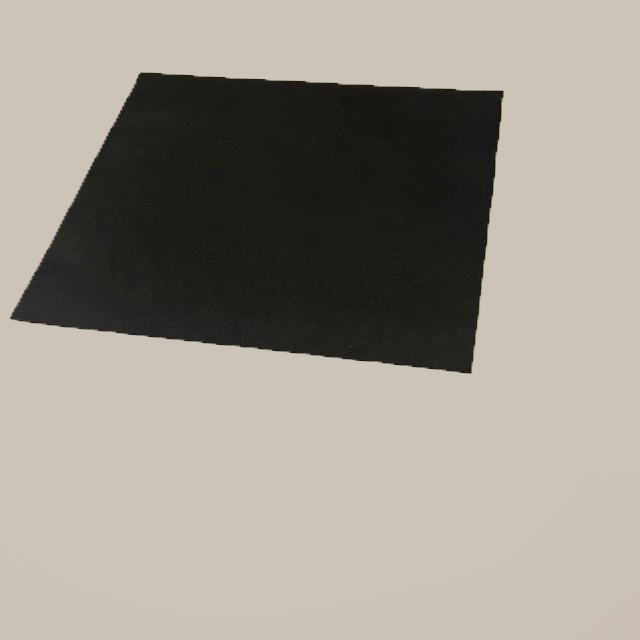Box: (9, 72, 505, 375)
